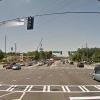Crosswalk: (4, 74, 99, 100)
